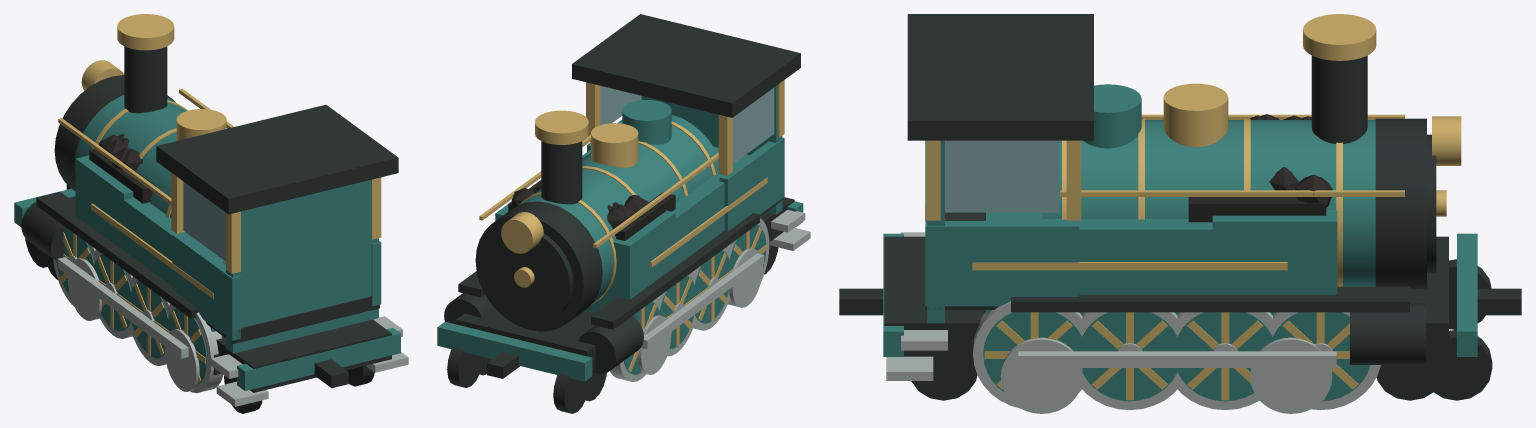
The model's file is alpine-monarch-lod0.glb.
3 renders of one model, left to right at view 1: azimuth 30°, elevation 25°; view 2: azimuth 150°, elevation 25°; view 3: azimuth 270°, elevation 25°, orthographic. The views are drawn at different scales.
Visible parts, largest first — view 1: frame, boiler, door_handle, water_tank, rod_-0.71, cab_glass, cab_step, coal_bed, tender_wheel.001, tender_wheel, wheel_face.002, wheel_face.001 (+9 smaller); view 2: frame, boiler, door_handle, water_tank, cab_glass, coal_bed, rod_-0.71, cab_step, pony_wheel.001, tender_wheel.001, tender_wheel, pony_wheel.004 (+11 smaller); view 3: frame, boiler, water_tank, door_handle, cab_glass, rod_0.71, wheel_face.006, tender_wheel.003, coal_bed, wheel_face.005, tender_wheel.002, tender_stripe (+15 smaller).
Part boxes in pixels (bbox=[...]): frame: bbox=[21, 46, 398, 392]; boiler: bbox=[14, 95, 400, 390]; door_handle: bbox=[58, 14, 381, 273]; water_tank: bbox=[75, 155, 225, 335]; rod_-0.71: bbox=[57, 257, 188, 358]; cab_glass: bbox=[183, 181, 225, 261]; cab_step: bbox=[211, 316, 408, 406]; coal_bed: bbox=[89, 133, 155, 203]; tender_wheel.001: bbox=[164, 329, 199, 391]; tender_wheel: bbox=[67, 258, 101, 320]; wheel_face.002: bbox=[129, 281, 168, 358]; wheel_face.001: bbox=[93, 254, 132, 331]; frame: bbox=[444, 14, 800, 378]; boiler: bbox=[437, 85, 803, 381]; door_handle: bbox=[479, 80, 784, 304]; water_tank: bbox=[495, 146, 749, 313]; cab_glass: bbox=[600, 86, 774, 163]; coal_bed: bbox=[508, 180, 675, 240]; rod_-0.71: bbox=[641, 253, 764, 349]; cab_step: bbox=[769, 210, 810, 250]; pony_wheel.001: bbox=[553, 373, 589, 413]; tender_wheel.001: bbox=[727, 248, 762, 307]; tender_wheel: bbox=[638, 315, 671, 374]; pony_wheel.004: bbox=[447, 347, 481, 387]; frame: bbox=[839, 14, 1521, 364]; boiler: bbox=[883, 84, 1477, 356]; water_tank: bbox=[986, 210, 1337, 315]; door_handle: bbox=[926, 14, 1461, 286]; cab_glass: bbox=[945, 140, 1059, 212]; rod_0.71: bbox=[1018, 351, 1336, 367]; wheel_face.006: bbox=[1079, 312, 1180, 401]; tender_wheel.003: bbox=[1000, 337, 1082, 413]; coal_bed: bbox=[1188, 114, 1332, 222]; wheel_face.005: bbox=[1175, 312, 1273, 401]; tender_wheel.002: bbox=[1250, 337, 1332, 413]; tender_stripe: bbox=[972, 262, 1287, 270].
Size of the model in its own units: 1.84 by 2.51 by 4.65.
